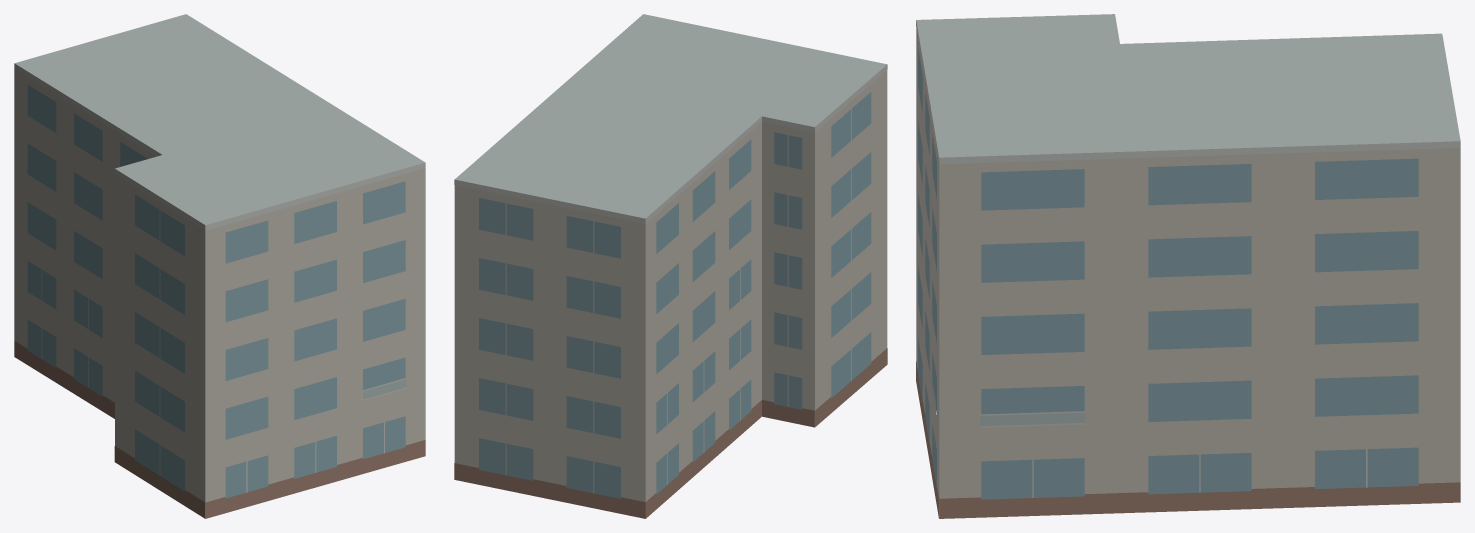
The model's file is survey-upis-33017203.glb.
The picture shows the model from 3 angles, left to right: view 1: azimuth 30°, elevation 25°; view 2: azimuth 150°, elevation 25°; view 3: azimuth 270°, elevation 25°; orthographic projection. The views are drawn at different scales.
Visible parts, largest first — view 1: survey-upis-33017203.tmp; view 2: survey-upis-33017203.tmp; view 3: survey-upis-33017203.tmp.
Boxes of the visible parts, bbox=[...] form: survey-upis-33017203.tmp: bbox=[14, 14, 425, 518]; survey-upis-33017203.tmp: bbox=[454, 14, 887, 518]; survey-upis-33017203.tmp: bbox=[916, 14, 1460, 518].
Bounding box in the file's own units: 11.39 × 13.35 × 18.25.
